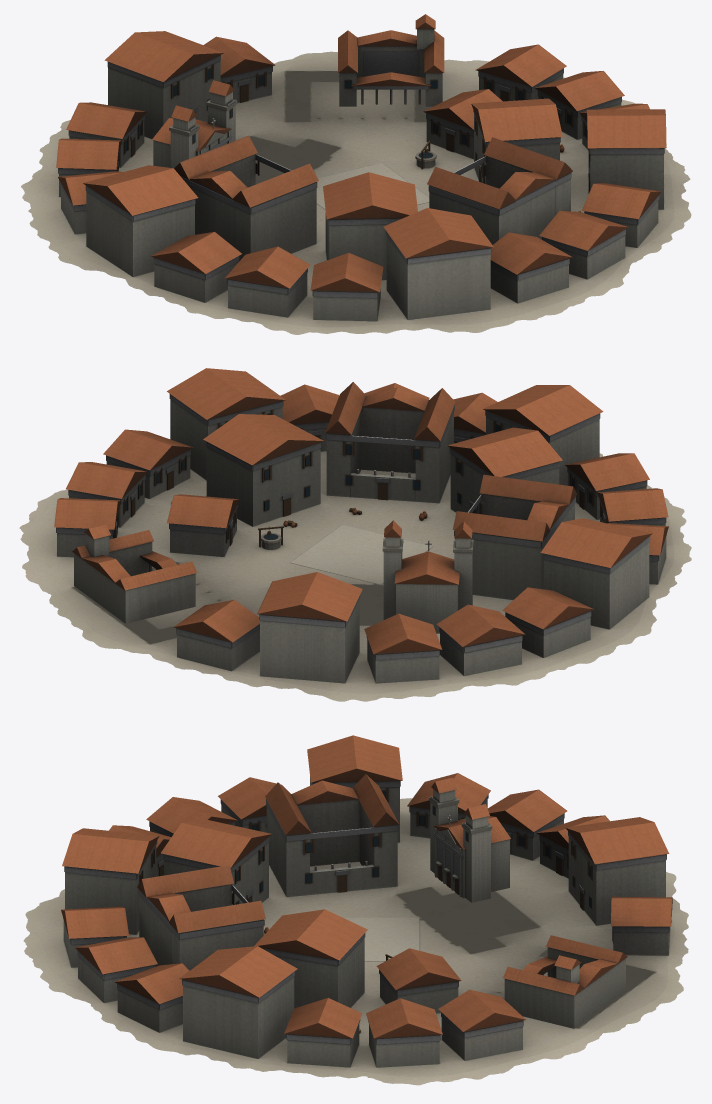
File: gunpowder-town-big-a-americas.glb
3 views of the same model, one above another, from view 1: azimuth 30°, elevation 25°; view 2: azimuth 150°, elevation 25°; view 3: azimuth 270°, elevation 25° (orthographic).
Parts seen in each view (by area): view 1: LOD0; view 2: LOD0; view 3: LOD0.
Boxes of the visible parts, <box> form: LOD0: <box>21,14,691,334</box>; LOD0: <box>19,368,691,701</box>; LOD0: <box>23,735,688,1085</box>.
Size of what is drawn, in the model's own units: 8.06 by 1.2 by 7.91.
Materials: 3 (3 with a texture image).
